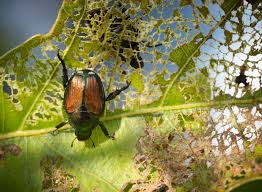Diseased_Leaves: (158, 9, 258, 101), (133, 132, 257, 184), (47, 54, 111, 144), (76, 11, 146, 57), (31, 152, 83, 192), (2, 62, 42, 110)
